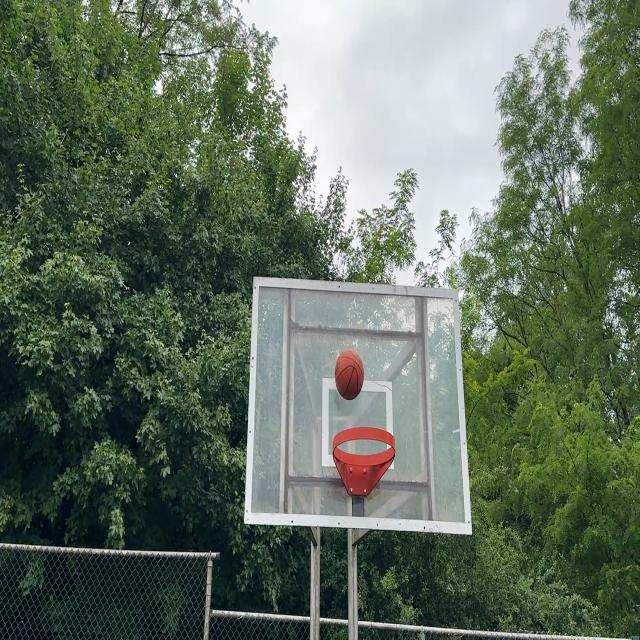Basketball: (335, 350, 365, 401)
